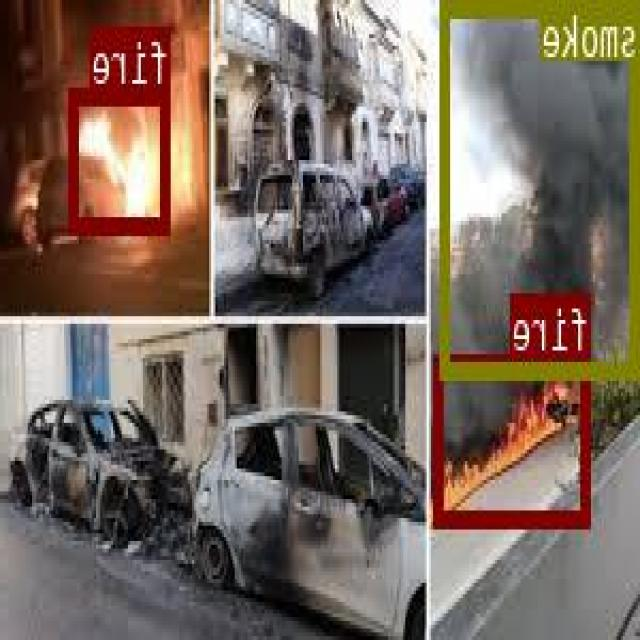fire: (435, 353, 592, 524), (70, 86, 172, 231)
smoke: (444, 0, 640, 377)
